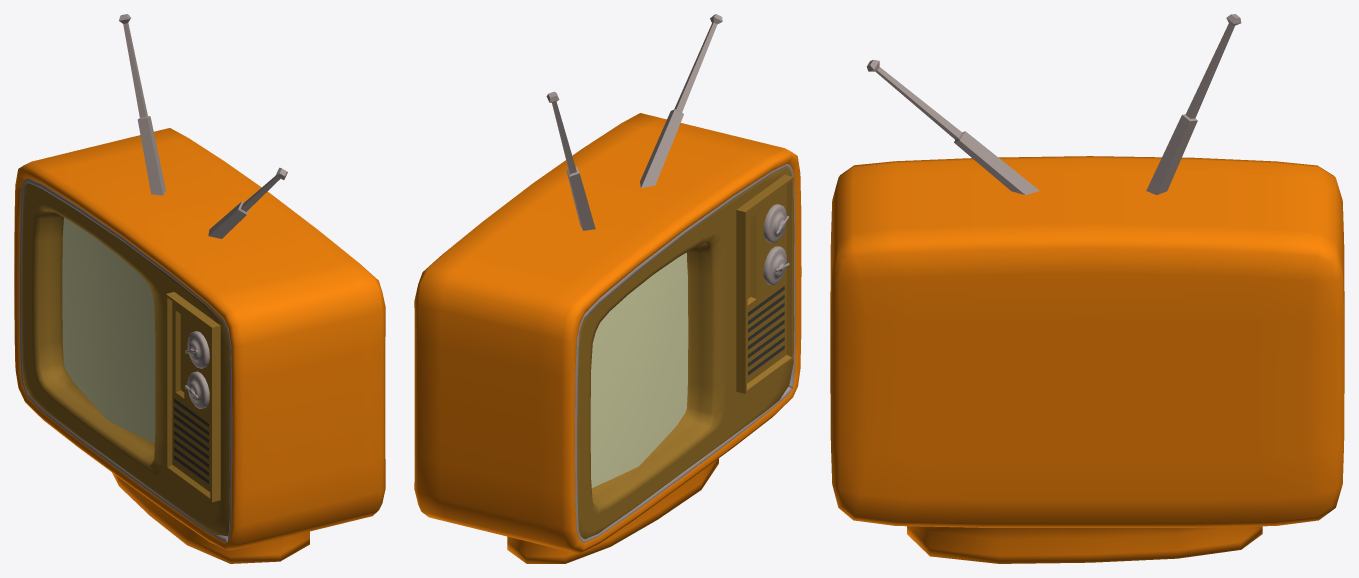
Rendered from old-tv.glb.
3 views of the same model, side by side, from view 1: azimuth 30°, elevation 25°; view 2: azimuth 150°, elevation 25°; view 3: azimuth 270°, elevation 25° (orthographic). The views are drawn at different scales.
Visible parts, largest first — view 1: Cube 61; view 2: Cube 61; view 3: Cube 61.
Part boxes in pixels (x1,y1,x2,y2): Cube 61: (14,14,385,563); Cube 61: (414,14,801,563); Cube 61: (830,14,1344,563).
Bounding box in the file's own units: 6.58 × 16.73 × 15.09.
